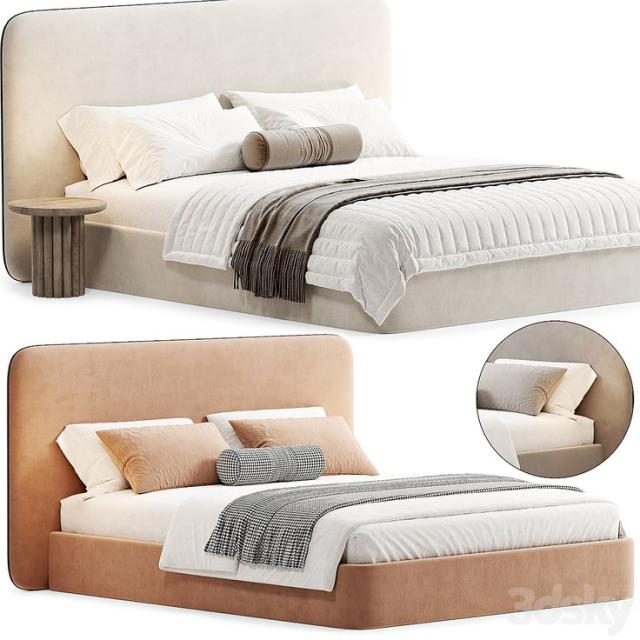obstacle: (5, 0, 640, 326), (7, 332, 634, 631)
